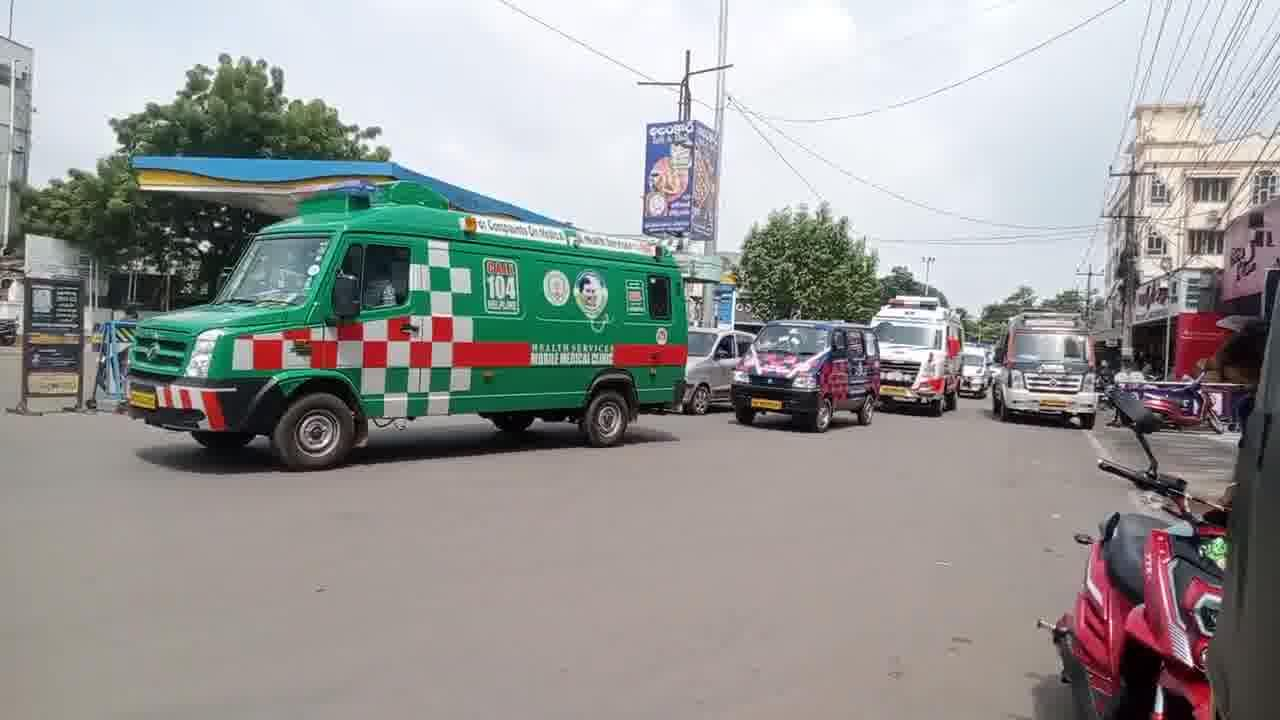AMBULANCE: (140, 199, 696, 446), (995, 305, 1107, 421), (875, 285, 967, 417)
